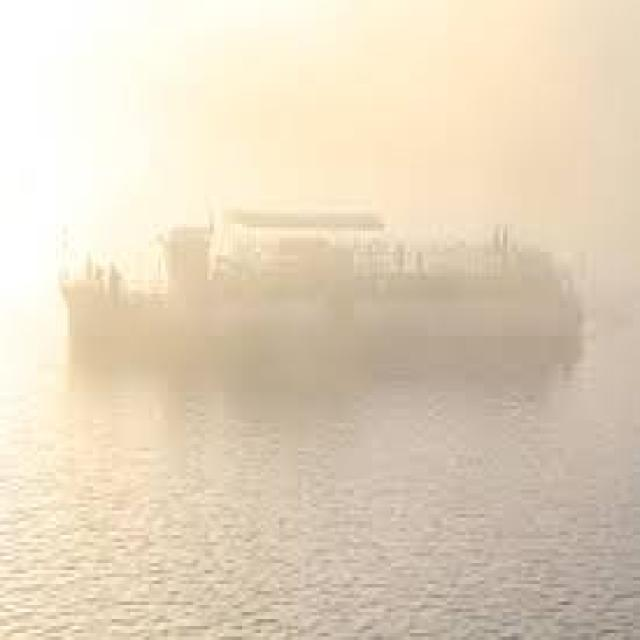fishing boat: (52, 189, 576, 380)
